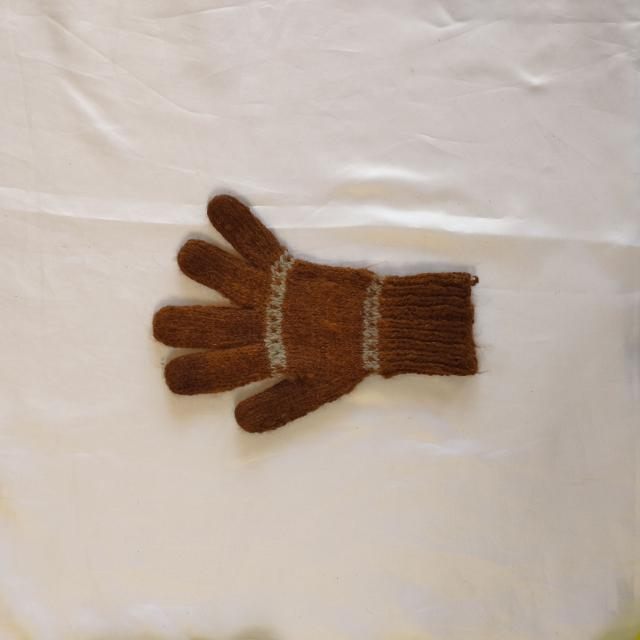Guante: (152, 192, 482, 434)
